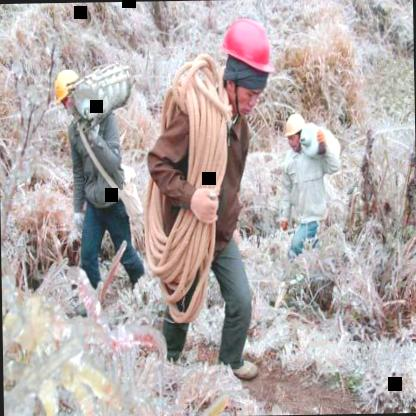helmet: (216, 12, 277, 113), (51, 64, 89, 122), (283, 110, 306, 149)
